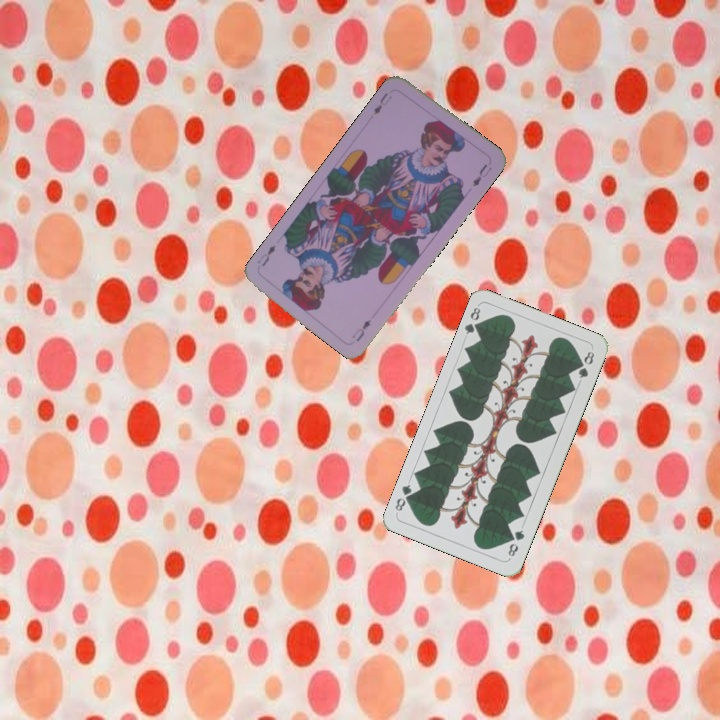EU: (347, 315, 374, 344), (370, 88, 395, 117)
G8: (460, 302, 485, 337), (504, 526, 527, 561)
